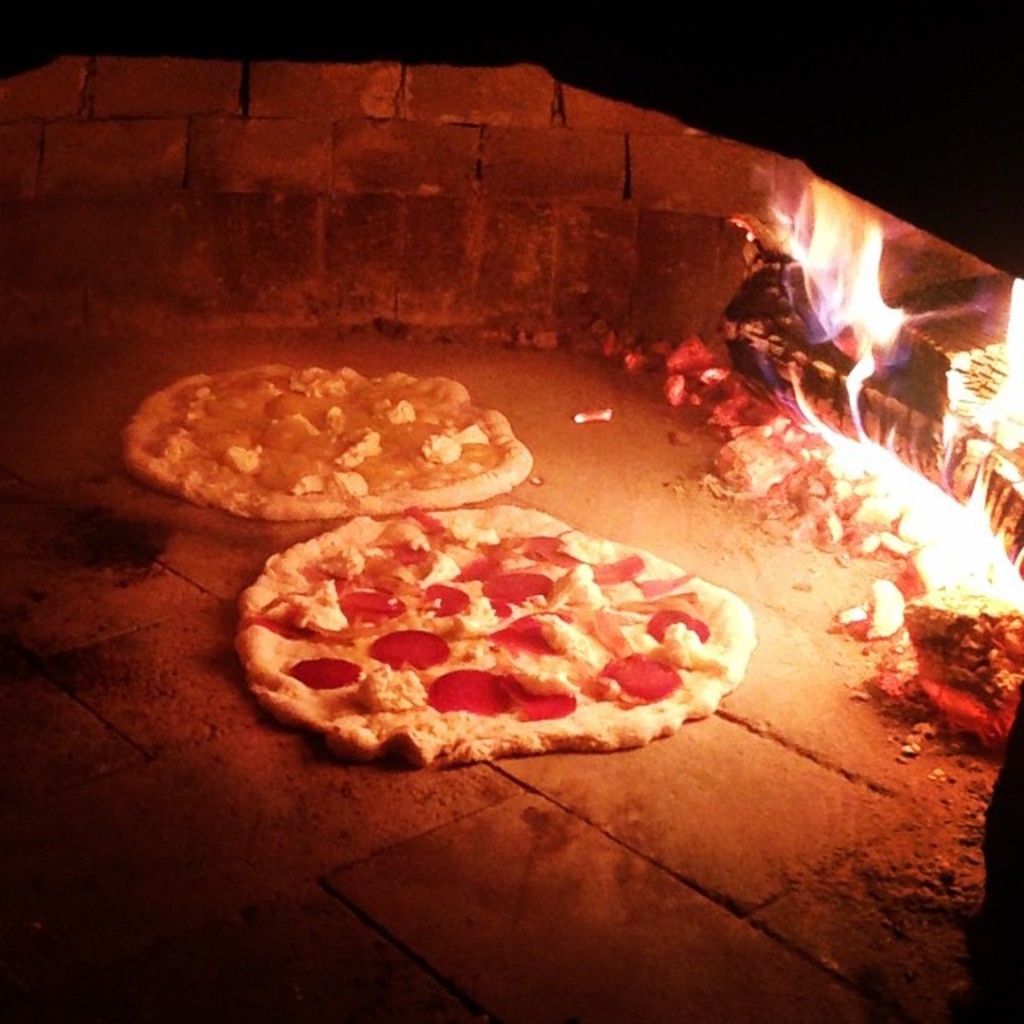Pizza: (227, 497, 748, 763), (126, 355, 556, 528)
